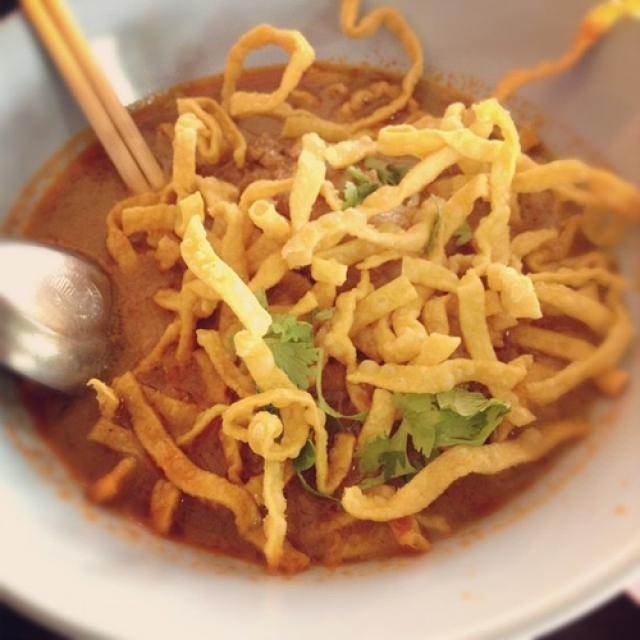面条主食: (22, 39, 621, 584)
